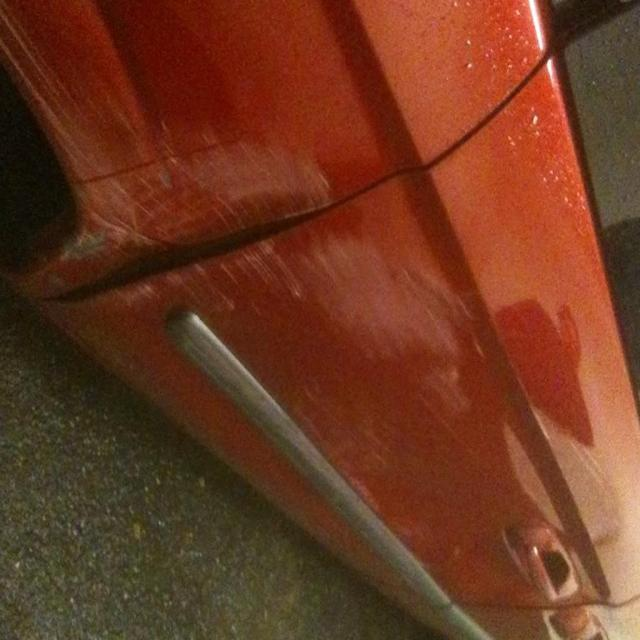scratch: (4, 101, 430, 385)
